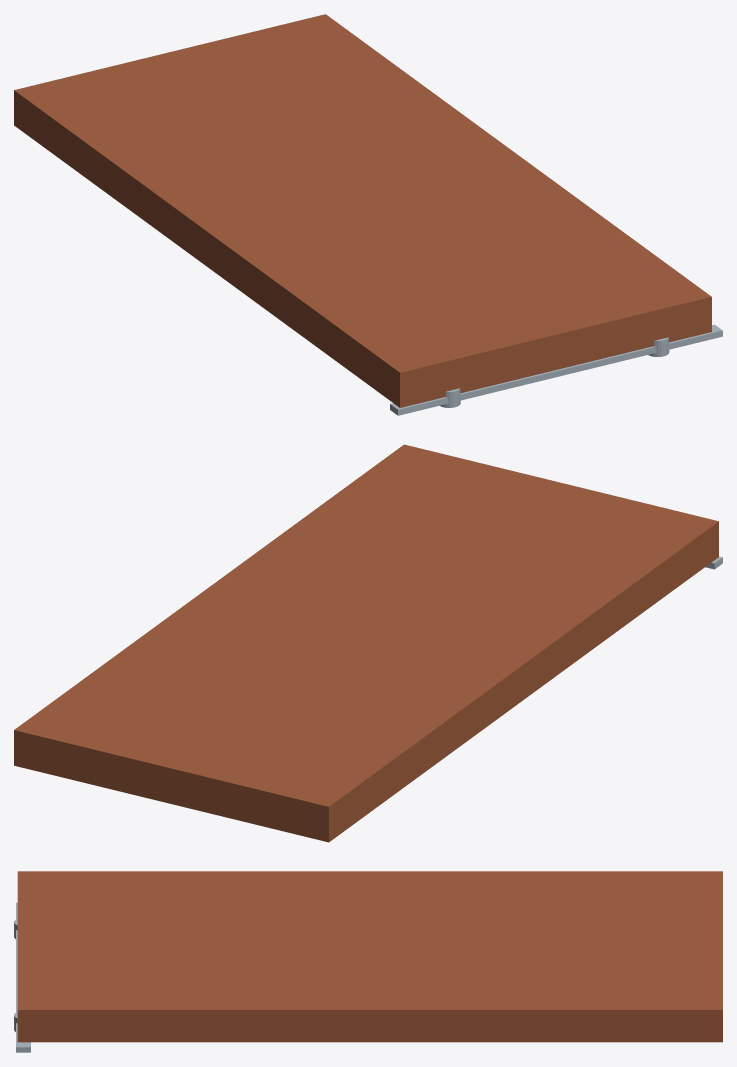
The model's file is MotionReady_Sliding_Door.obj.
3 renders of one model, top to bottom at view 1: azimuth 30°, elevation 25°; view 2: azimuth 150°, elevation 25°; view 3: azimuth 270°, elevation 25°, orthographic. The views are drawn at different scales.
Visible parts, largest first — view 1: Sliding_Door_Leaf, Sliding_Rack; view 2: Sliding_Door_Leaf; view 3: Sliding_Door_Leaf, Sliding_Rack.
Part boxes in pixels (x1,y1,x2,y2): Sliding_Door_Leaf: (14, 14, 711, 407); Sliding_Rack: (390, 324, 722, 415); Sliding_Door_Leaf: (14, 444, 718, 842); Sliding_Door_Leaf: (17, 871, 722, 1042); Sliding_Rack: (16, 902, 30, 1052).
Bounding box in the file's own units: 1020 × 138 × 2111.
